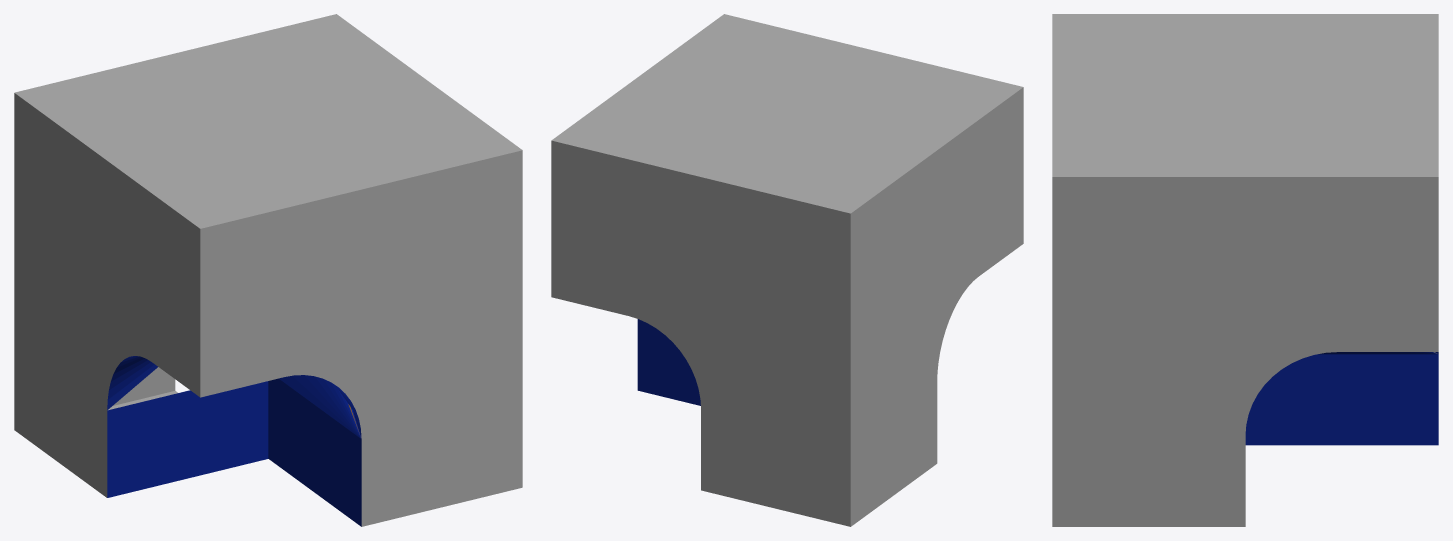
File: case_245.fbx
3 renders of one model, left to right at view 1: azimuth 30°, elevation 25°; view 2: azimuth 150°, elevation 25°; view 3: azimuth 270°, elevation 25°, orthographic. The views are drawn at different scales.
Visible parts, largest first — view 1: case_245; view 2: case_245; view 3: case_245.
Part boxes in pixels (box(x1,y1,x2,y2)): case_245: box(14, 14, 522, 526); case_245: box(551, 14, 1023, 526); case_245: box(1052, 14, 1438, 526).
Size of the model in its own units: 1 by 1 by 1.
